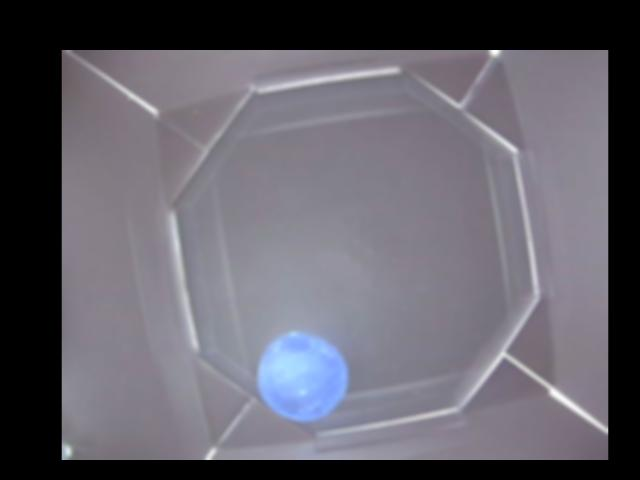Potato: (258, 330, 348, 428)
